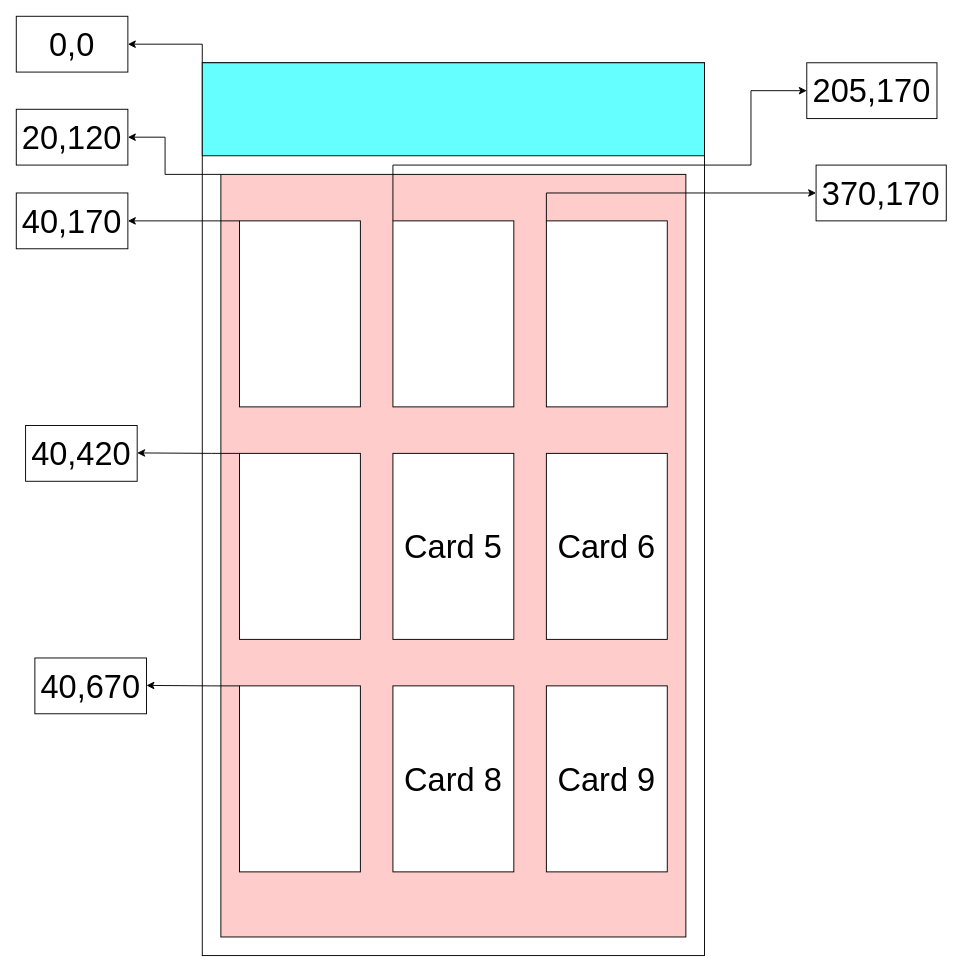
Image size: 963x972. Some labels were removed from this diagram. The shapes that lost their labels are listed below. From the top down, each one's centre as x and y in pixels, then its label:
At [452,109]: "GUI W540, H100".
At [299,313]: "Card 1".
At [453,313]: "Card 2".
At [606,313]: "Card 3".
At [299,545]: "Card 4".
At [299,778]: "Card 7".
